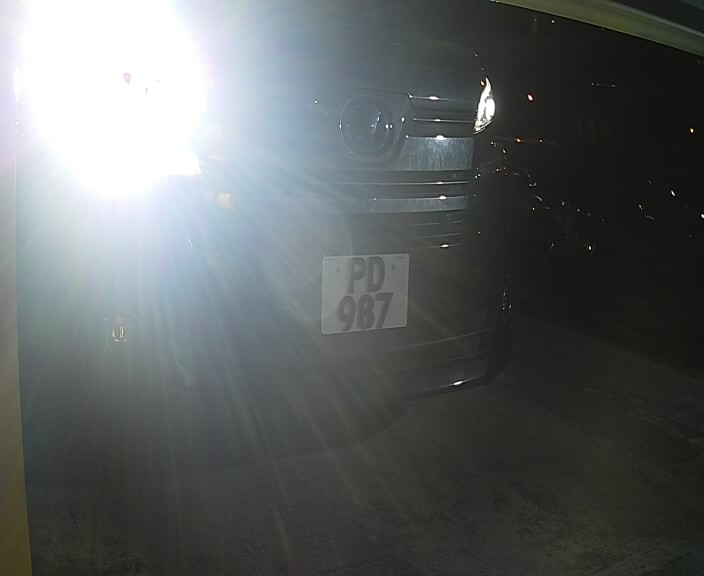Car: (27, 2, 519, 435)
License Plate: (318, 246, 419, 340)
